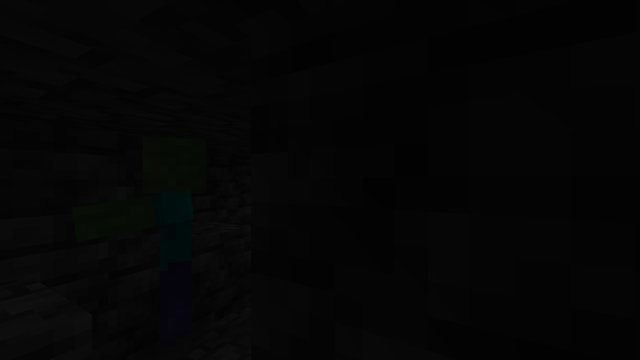zombies: (144, 140, 222, 357)
